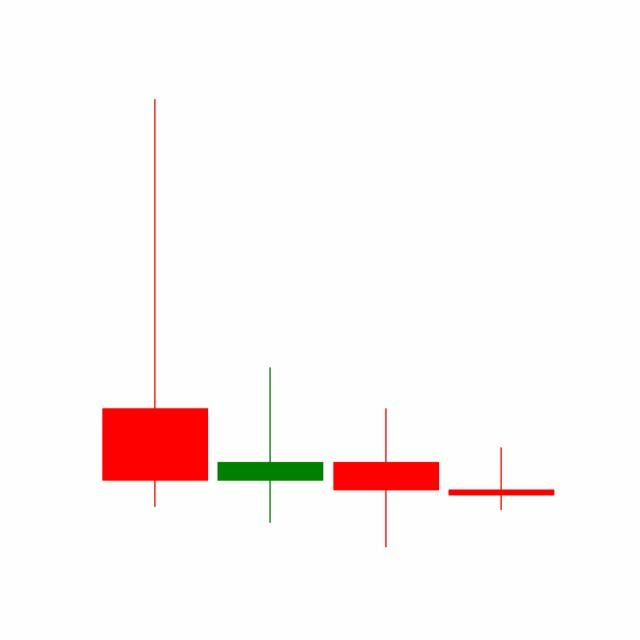Spinning Top: (444, 447, 560, 512)
